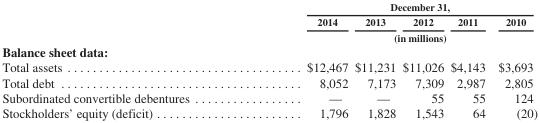table: (1, 0, 536, 120)
table column: (1, 0, 247, 120), (247, 0, 350, 120), (350, 0, 398, 120), (398, 0, 446, 120), (446, 0, 491, 120), (491, 0, 536, 120)
table column header: (1, 0, 536, 43)
table projected row header: (1, 43, 536, 59)
table row: (1, 43, 536, 59), (1, 74, 536, 90), (1, 14, 536, 29), (1, 59, 536, 74), (1, 90, 536, 105), (1, 105, 536, 120), (1, 0, 536, 14), (1, 29, 536, 43)
table spanning cell: (247, 0, 536, 14), (247, 29, 536, 43)
